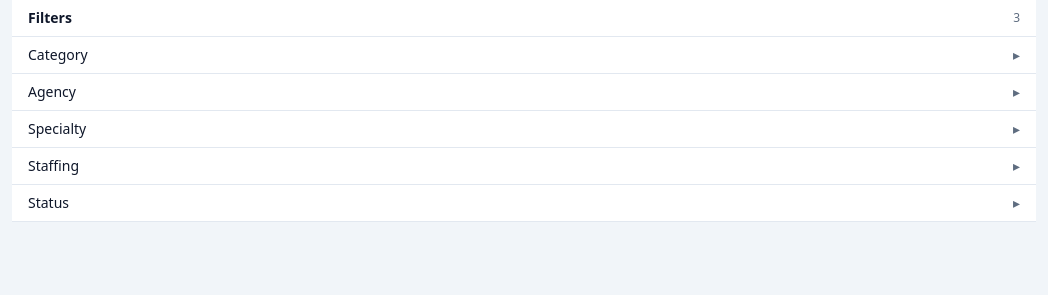
Scenario: FilterPanel › facet groups › explain the hidden-by-default statuses
The image size is (1048, 295).
Click the button "Status ▸".
click(49, 202)  # box [12,185,1036,221]
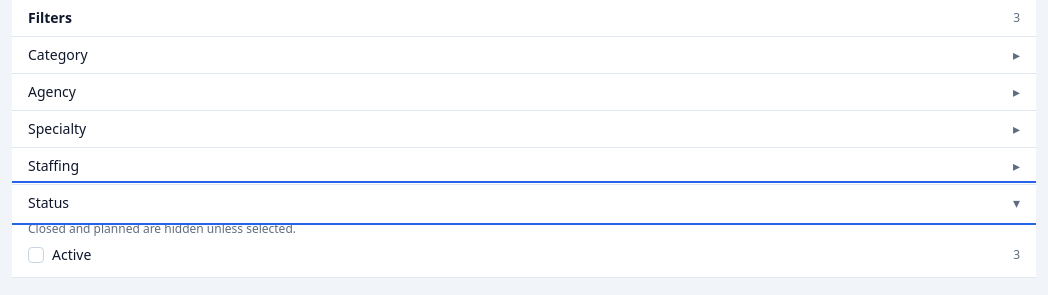
Now the text "Closed and planned are hidden unless selected." is shown, box [28,220,296,237]
